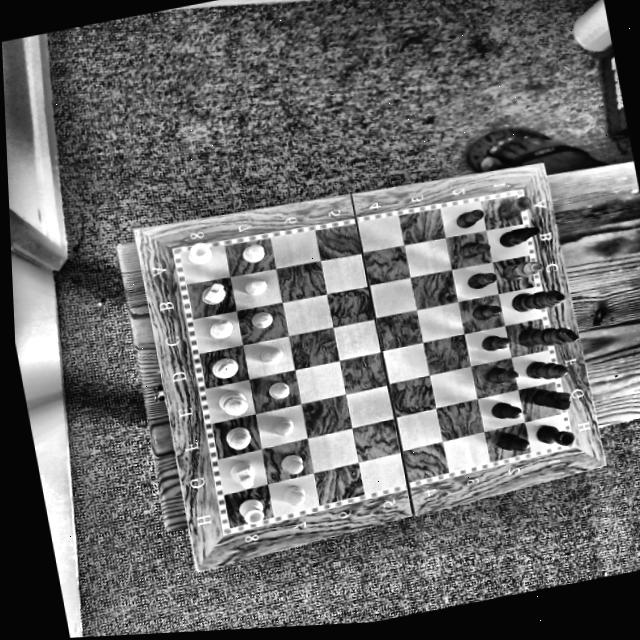black-bishop: (500, 252, 550, 287), (524, 356, 574, 384)
black-king: (518, 316, 587, 358)
black-knight: (496, 218, 550, 255), (530, 381, 579, 417)
black-pawn: (491, 426, 533, 457), (489, 395, 527, 425), (464, 266, 504, 293), (452, 205, 488, 233), (467, 300, 510, 322), (485, 363, 521, 389), (480, 330, 517, 355), (460, 237, 495, 261)
black-queen: (509, 284, 571, 320)
black-rook: (534, 418, 578, 453), (496, 193, 537, 223)
white-bishop: (203, 314, 241, 343), (222, 423, 259, 452)
white-king: (207, 353, 245, 383)
white-knight: (196, 275, 236, 312), (228, 456, 264, 492)
white-pawn: (263, 372, 302, 404), (275, 448, 313, 479), (253, 341, 292, 368), (267, 411, 303, 440), (280, 480, 311, 513), (238, 238, 270, 267), (242, 272, 274, 300), (249, 305, 278, 334)
white-queen: (213, 383, 255, 421)
white-rook: (179, 234, 224, 271), (236, 492, 268, 528)
